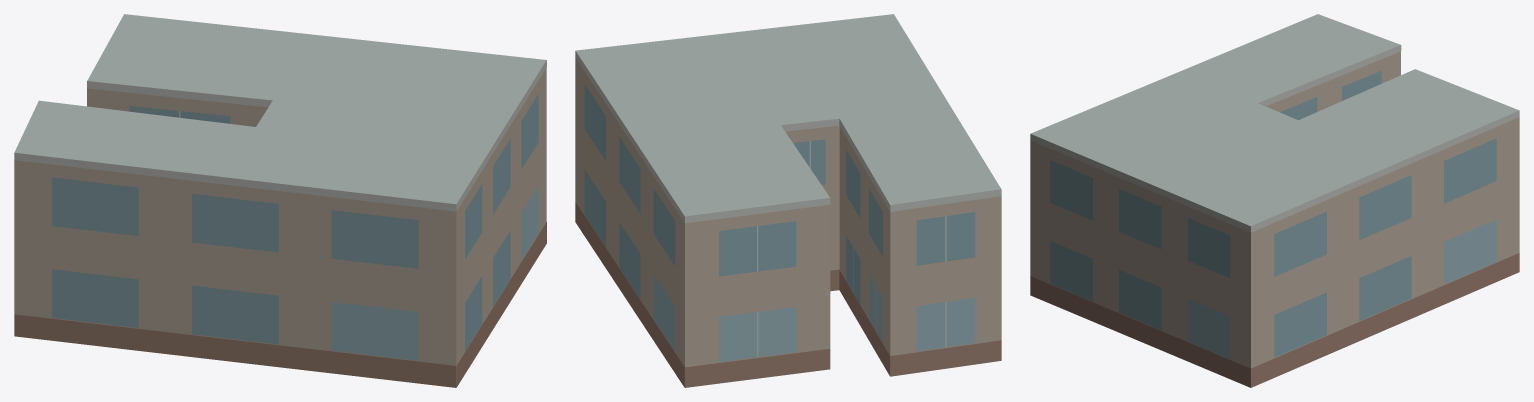
Rendered from survey-upis-32755631.glb.
The picture shows the model from 3 angles, left to right: view 1: azimuth 30°, elevation 25°; view 2: azimuth 150°, elevation 25°; view 3: azimuth 270°, elevation 25°; orthographic projection. The views are drawn at different scales.
Parts seen in each view (by area): view 1: survey-upis-32755631.tmp; view 2: survey-upis-32755631.tmp; view 3: survey-upis-32755631.tmp.
Part boxes in pixels (x1,y1,x2,y2): survey-upis-32755631.tmp: [14, 14, 546, 387]; survey-upis-32755631.tmp: [575, 14, 1001, 387]; survey-upis-32755631.tmp: [1030, 14, 1519, 387].
Size of the model in its own units: 17.2 by 6.1 by 16.75.
